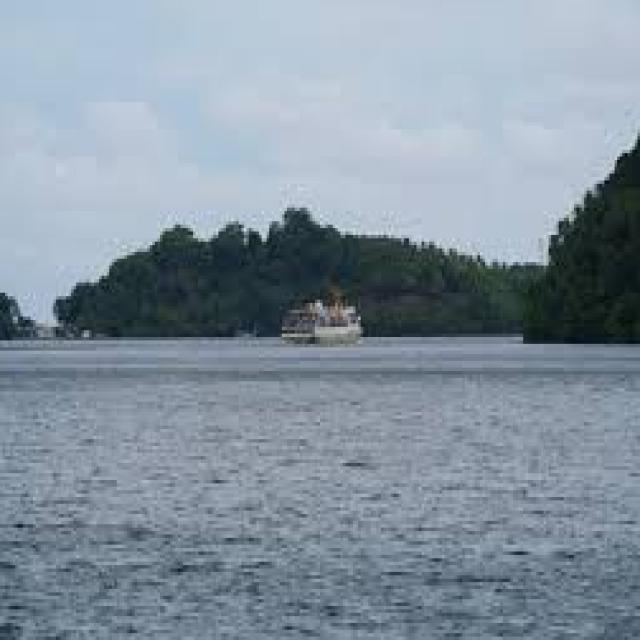fishing boat: (279, 286, 369, 344)
